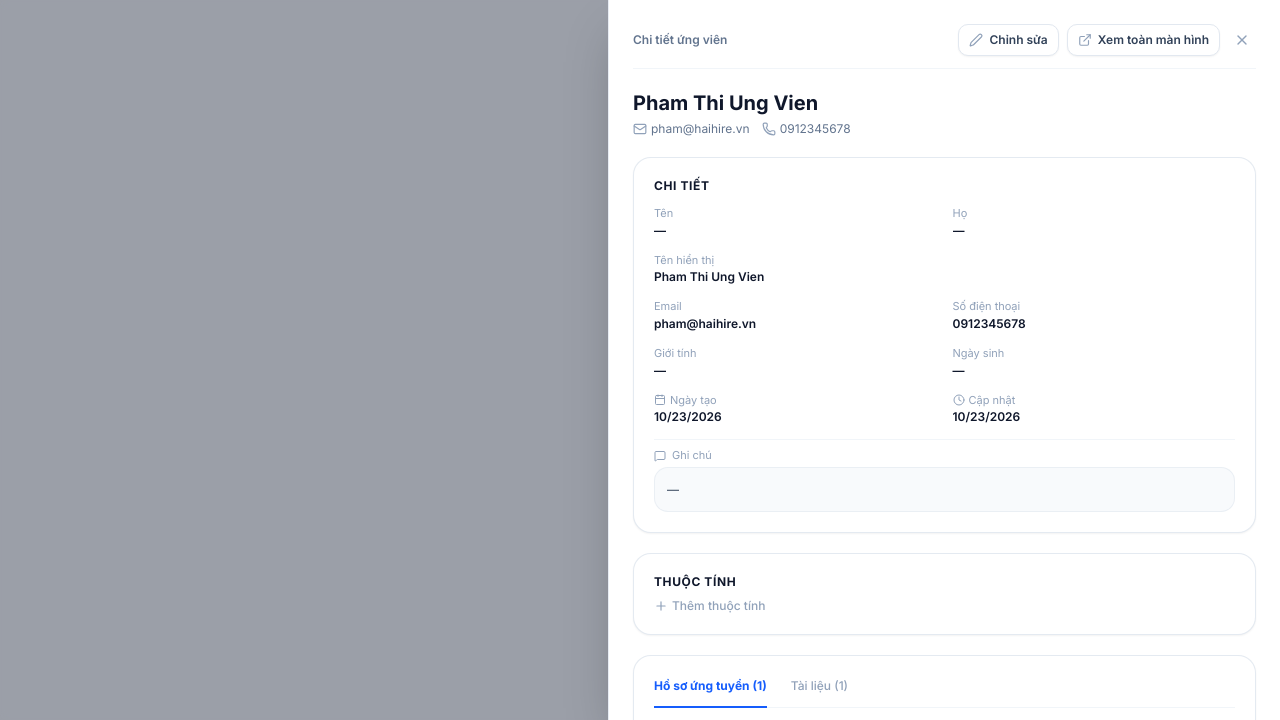
Test case: CandidateDrawer Component › renders candidate documents and allows filtering by document type
This screenshot has width=1280, height=720.
Click the button "Tài liệu (1)" at (819, 692), box [791,676,848,708]
(page scrolled)
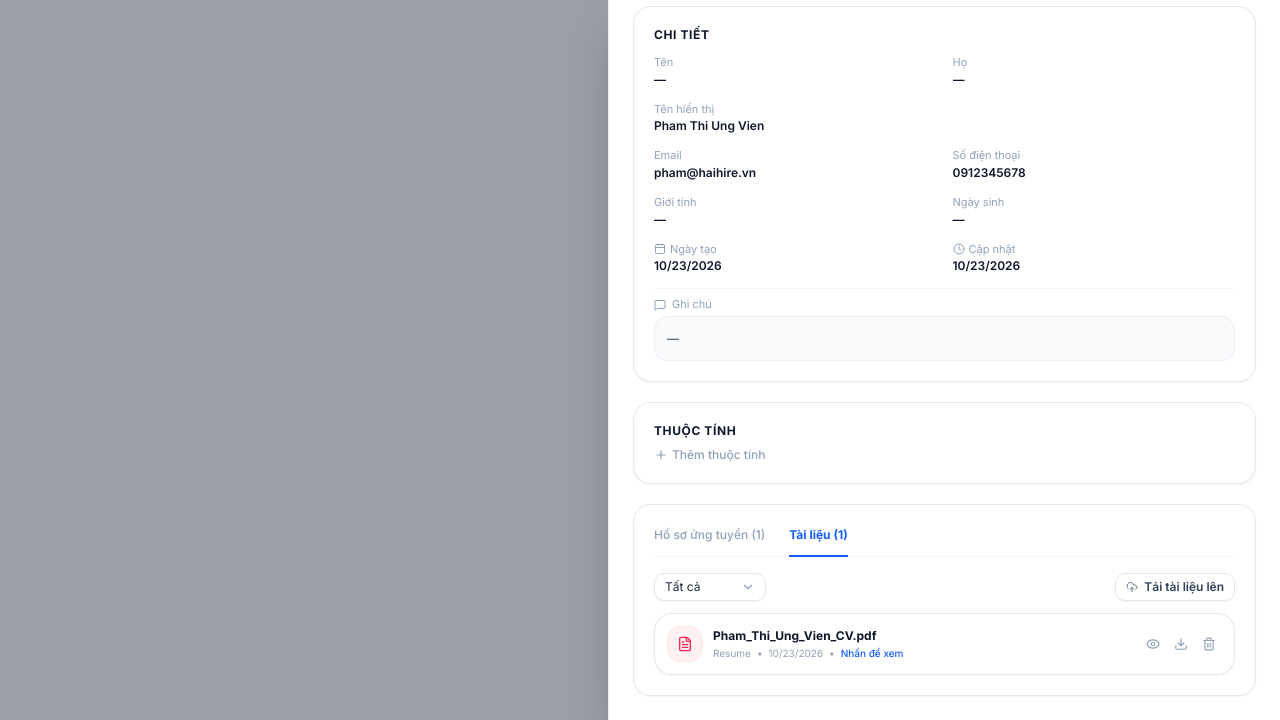
Expected: the heading "Pham_Thi_Ung_Vien_CV.pdf" is shown, [713,628,904,644]
Filter by Cover Letter (should be empty)
Click the button "Tất cả" at (710, 587), box [654,573,766,601]
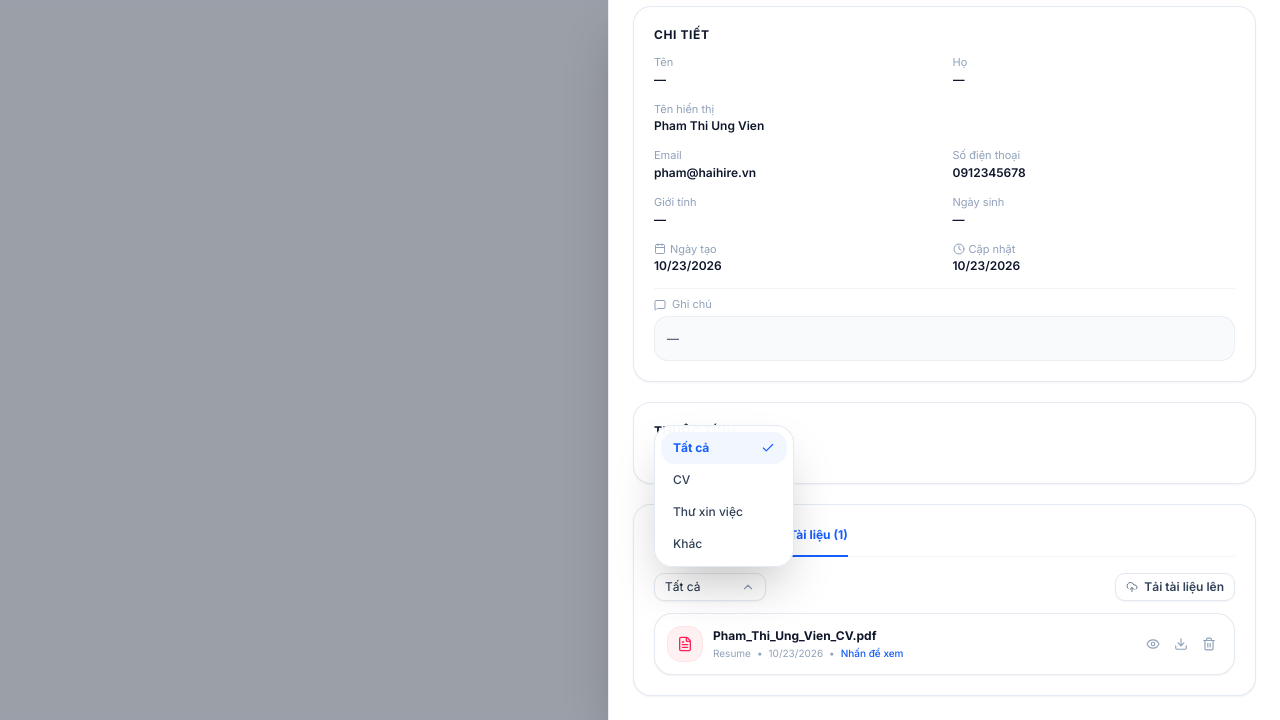
Click the option "Thư xin việc" at (724, 512), box [661,496,787,528]
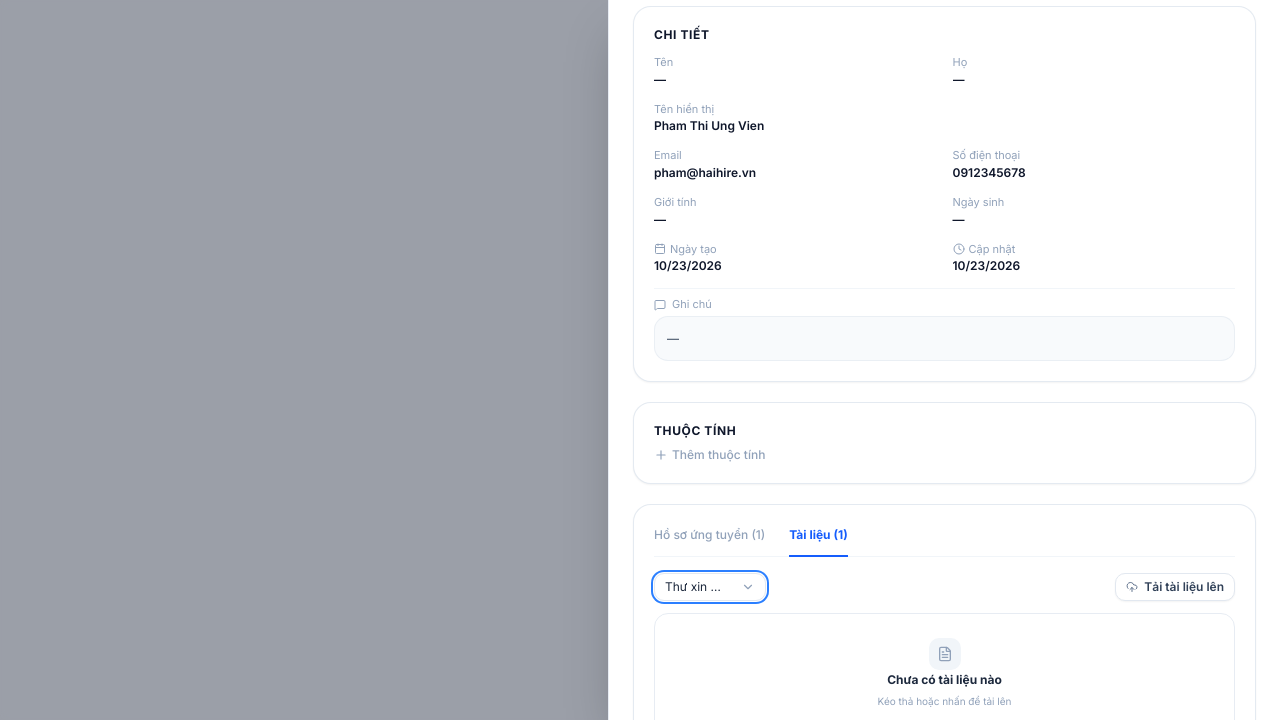
Expected: the heading "Chưa có tài liệu nào" is shown, [887,672,1002,688]
